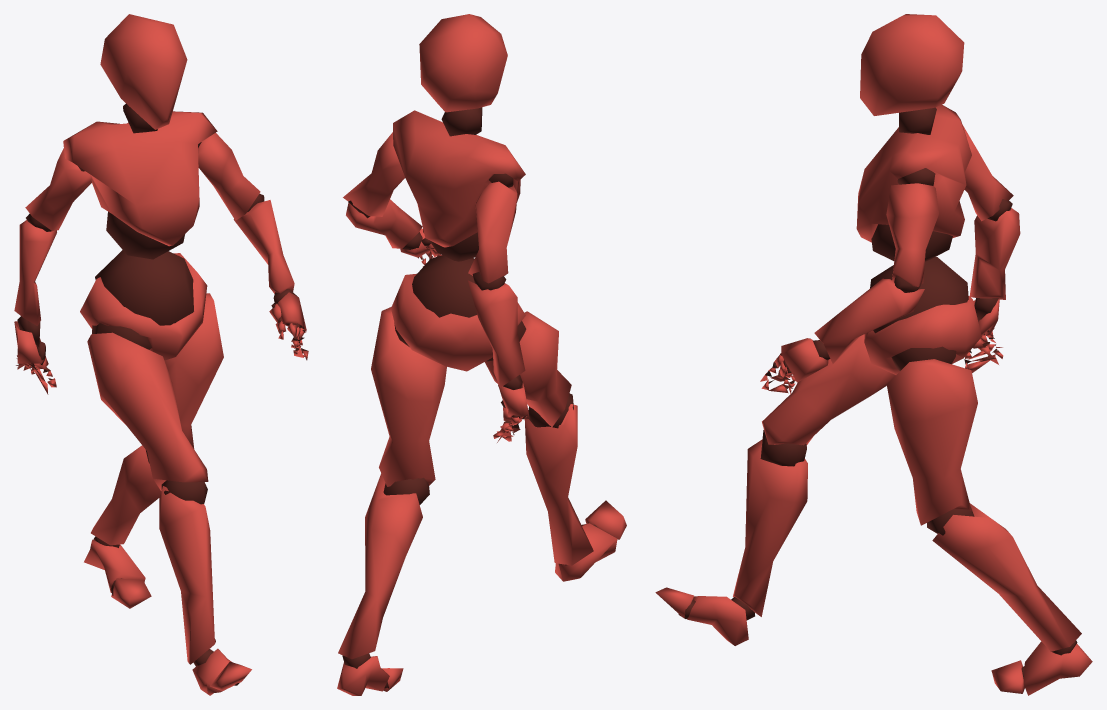
3 renders of one model, left to right at view 1: azimuth 30°, elevation 25°; view 2: azimuth 150°, elevation 25°; view 3: azimuth 270°, elevation 25°, orthographic. The views are drawn at different scales.
Visible parts, largest first — view 1: Beta_Surface; view 2: Beta_Surface; view 3: Beta_Surface.
Boxes of the visible parts, <box> form: Beta_Surface: <box>14,14,308,695</box>; Beta_Surface: <box>337,14,626,695</box>; Beta_Surface: <box>655,14,1092,695</box>.
Bounding box in the file's own units: 5.11 × 14.06 × 8.5.
